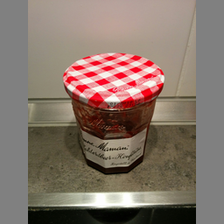jam: (62, 51, 166, 175)
